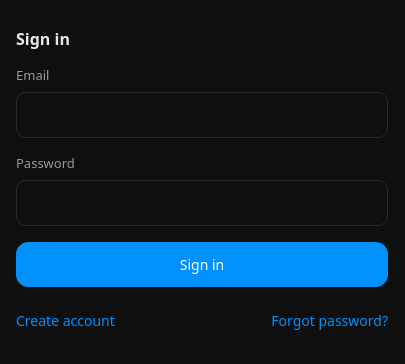
Scenario: SignInScreen › says the password was refused, and keeps what was typed
The width and height of the screenshot is (405, 364).
Type "gabriel@example.com" into the field labelled "Email" at (202, 115), box [16,92,388,138]
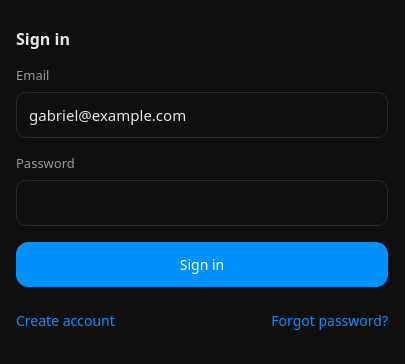
Type "wrong" into the password field labelled "Password" at (202, 203), box [16,180,388,226]
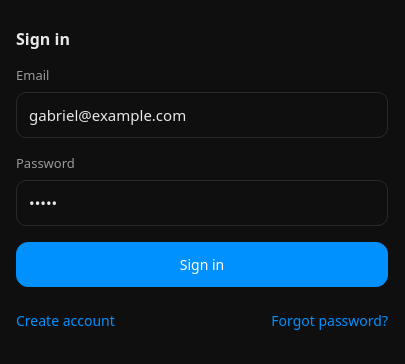
Click the button "Sign in" at (202, 264), box [16,242,388,287]
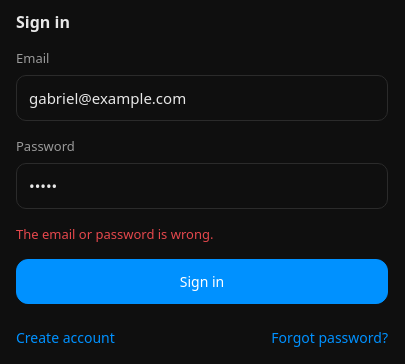
Result: the message shows "email or password" at [16,225,213,243]
